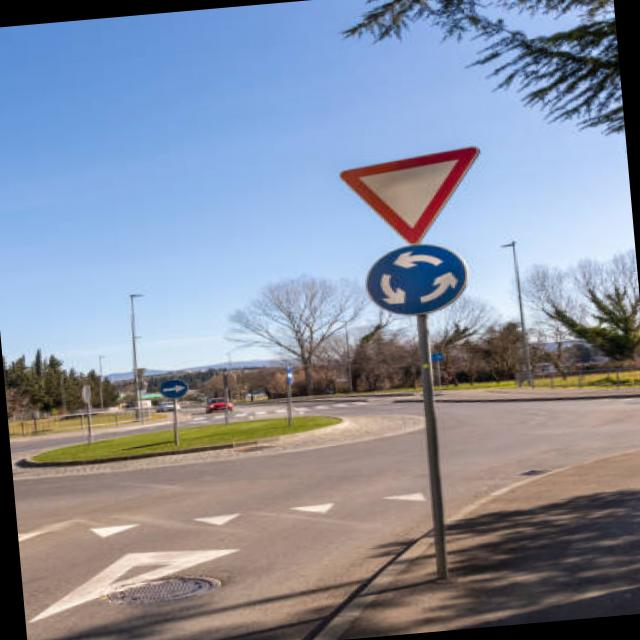give_way: (330, 136, 497, 250)
